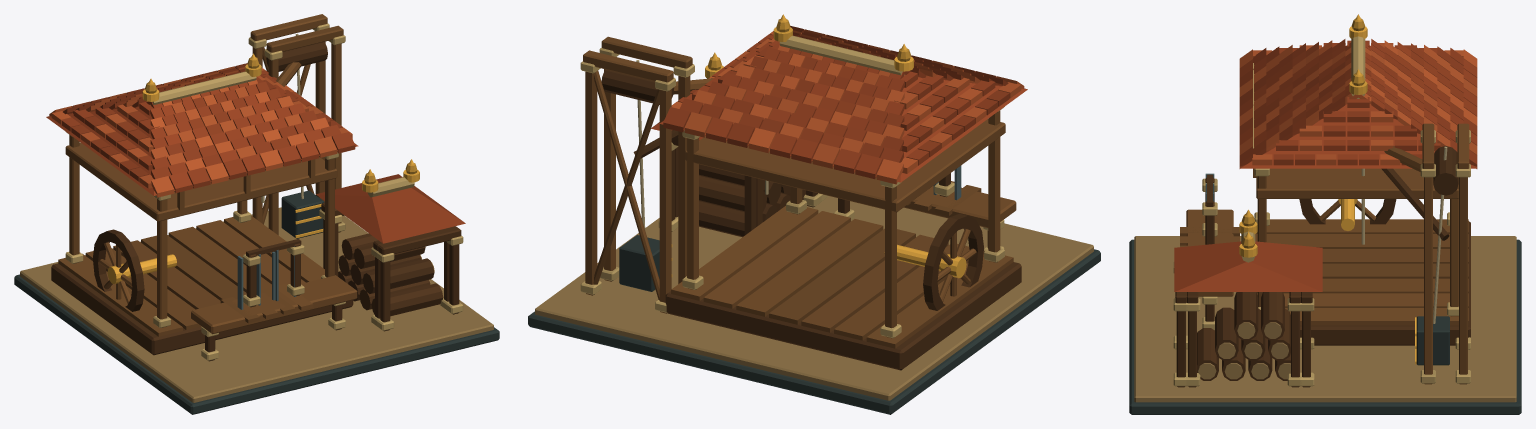
The picture shows the model from 3 angles, left to right: view 1: azimuth 30°, elevation 25°; view 2: azimuth 150°, elevation 25°; view 3: azimuth 270°, elevation 25°; orthographic projection. The views are drawn at different scales.
Parts seen in each view (by area): view 1: lumber_9_structure, lumber_9_metal; view 2: lumber_9_structure, lumber_9_metal; view 3: lumber_9_structure, lumber_9_metal.
Boxes of the visible parts, bbox=[...] form: lumber_9_structure: bbox=[14, 14, 499, 414]; lumber_9_metal: bbox=[107, 53, 419, 283]; lumber_9_structure: bbox=[528, 19, 1100, 414]; lumber_9_metal: bbox=[671, 14, 966, 278]; lumber_9_structure: bbox=[1129, 18, 1521, 414]; lumber_9_metal: bbox=[1239, 14, 1416, 364].
Bounding box in the file's own units: 5.6 × 4.26 × 5.6.
